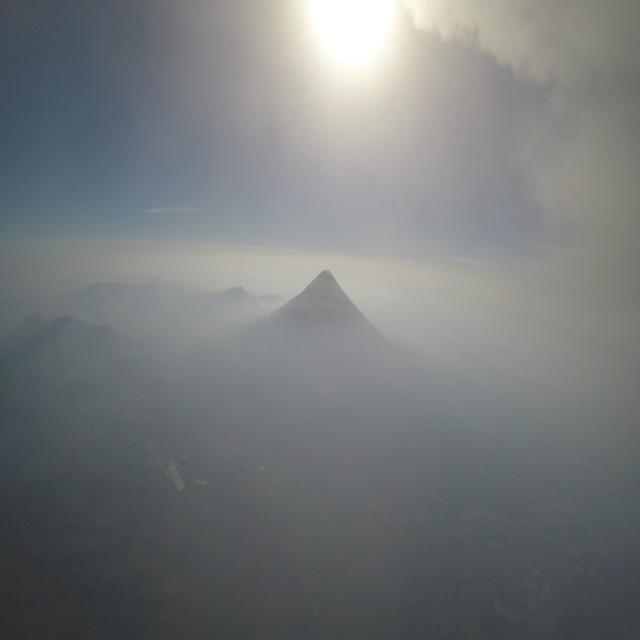Plume: (393, 0, 640, 262)
